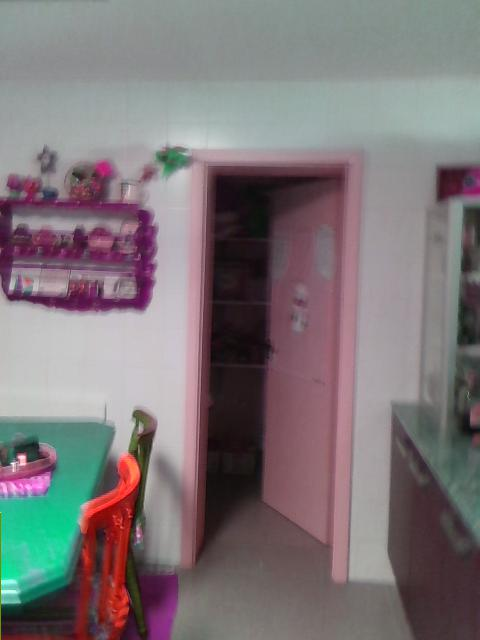semi_door: (181, 144, 366, 585)
